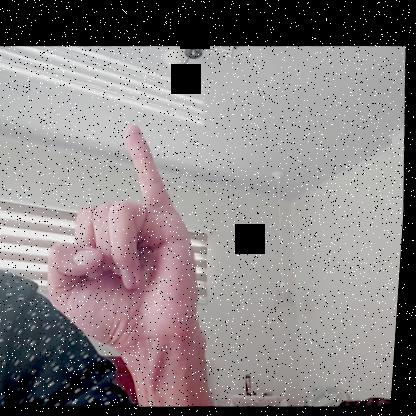I: (36, 112, 223, 346)
